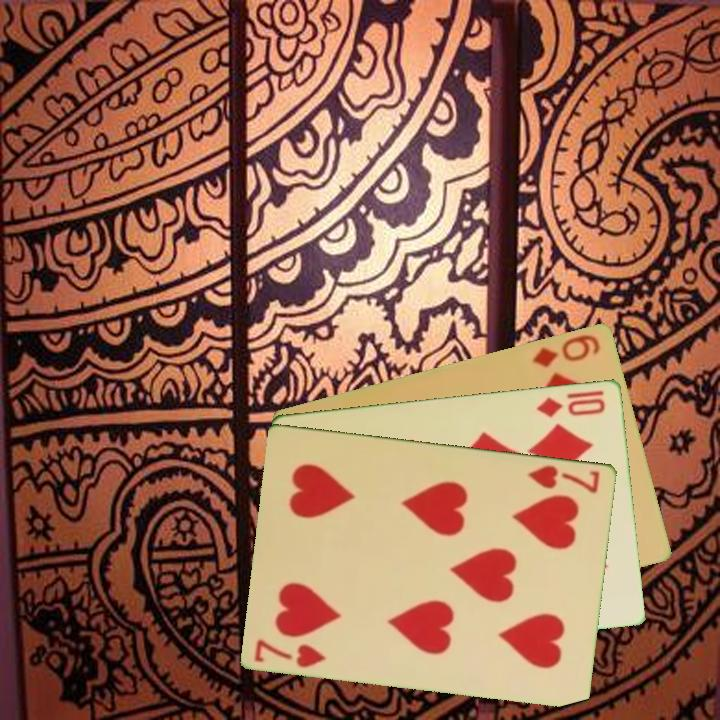10d: (533, 393, 609, 420)
6d: (529, 330, 604, 370)
7h: (524, 461, 603, 496), (251, 635, 329, 670)
